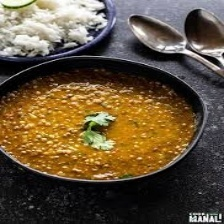rice: (0, 0, 114, 57)
